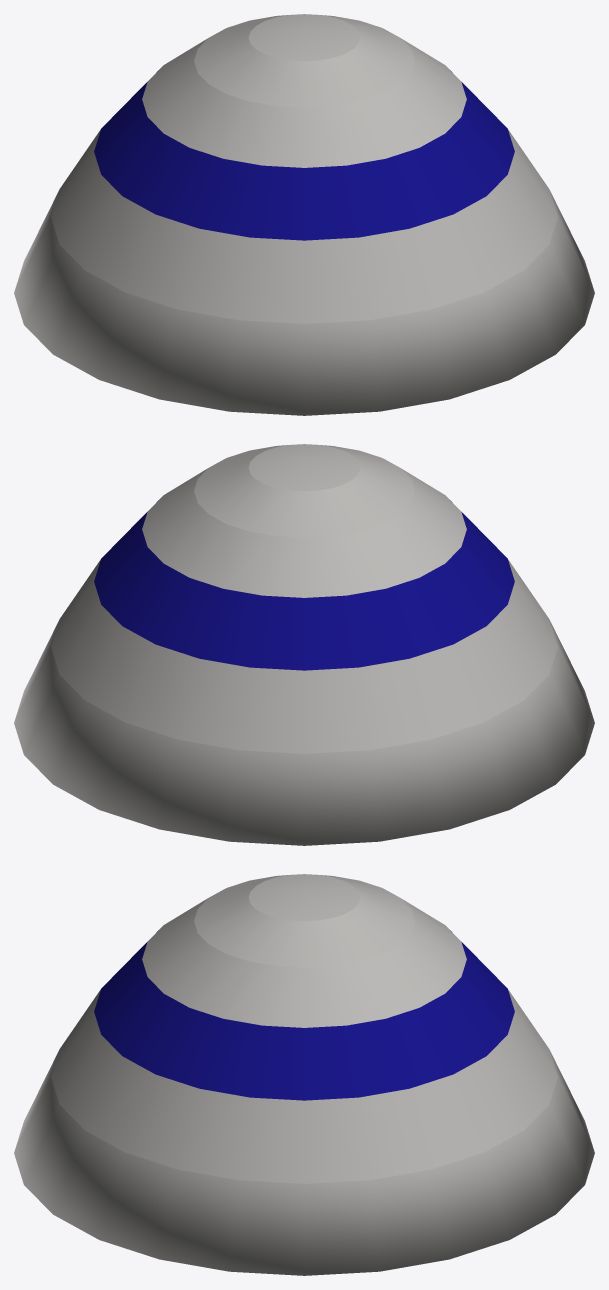
File: creepy Ship.obj
3 views of the same model, one above another, from view 1: azimuth 30°, elevation 25°; view 2: azimuth 150°, elevation 25°; view 3: azimuth 270°, elevation 25° (orthographic).
Parts seen in each view (by area): view 1: Component_1.003_ID4, Component_1.004_ID12, instance_0_ID18; view 2: Component_1.003_ID4, Component_1.004_ID12, instance_0_ID18; view 3: Component_1.003_ID4, Component_1.004_ID12, instance_0_ID18.
Boxes of the visible parts, x1,y1,x2,y2 form: Component_1.003_ID4: (14,129,594,415); Component_1.004_ID12: (142,14,466,167); instance_0_ID18: (94,70,514,240); Component_1.003_ID4: (14,559,594,845); Component_1.004_ID12: (142,444,466,597); instance_0_ID18: (94,500,514,670); Component_1.003_ID4: (14,989,594,1275); Component_1.004_ID12: (142,874,466,1027); instance_0_ID18: (94,930,514,1100).
Size of the model in its own units: 39.37 by 19.69 by 39.37.
